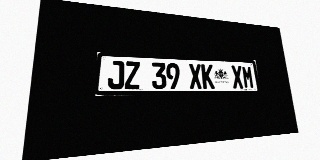3: (152, 62, 166, 89)
9: (166, 63, 180, 89)
J: (107, 60, 124, 89)
K: (201, 64, 215, 89)
M: (241, 66, 254, 88)
X: (188, 64, 202, 89), (231, 65, 244, 88)
Z: (125, 61, 140, 89)
